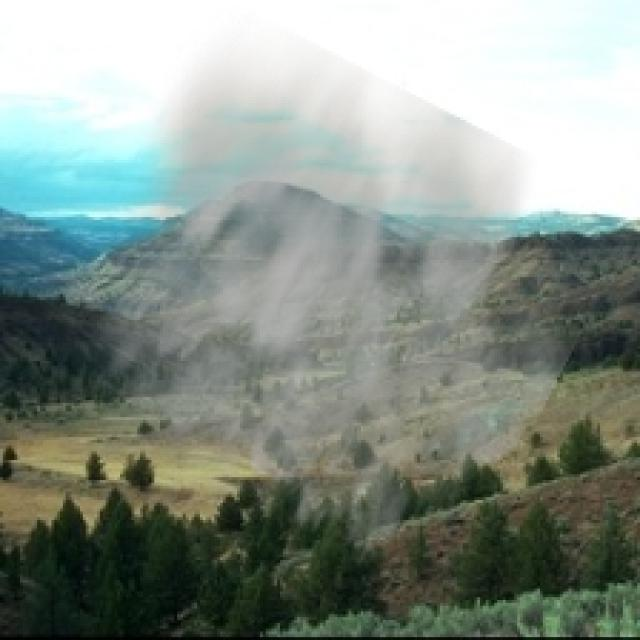smoke: (69, 6, 600, 568)
